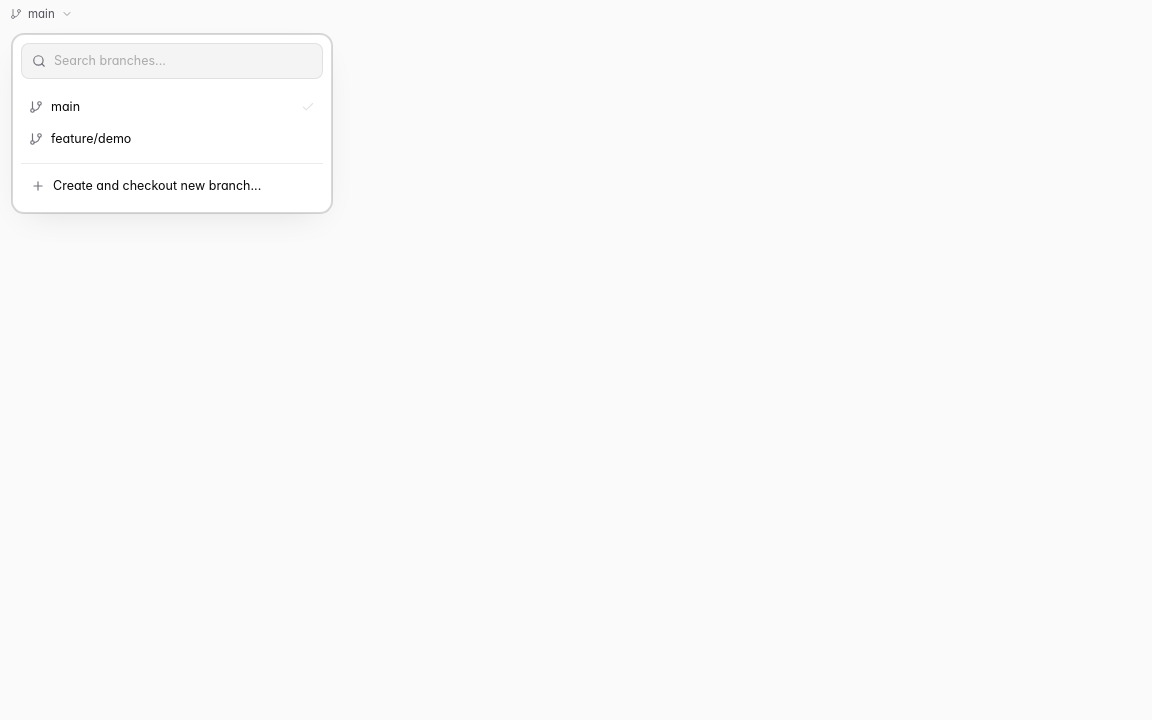
Test: BranchPicker panel (open) › blocks an invalid new branch name locally
Click the button "Create and checkout new branch..." at (172, 186), box x1=21 y1=168 x2=323 y2=204
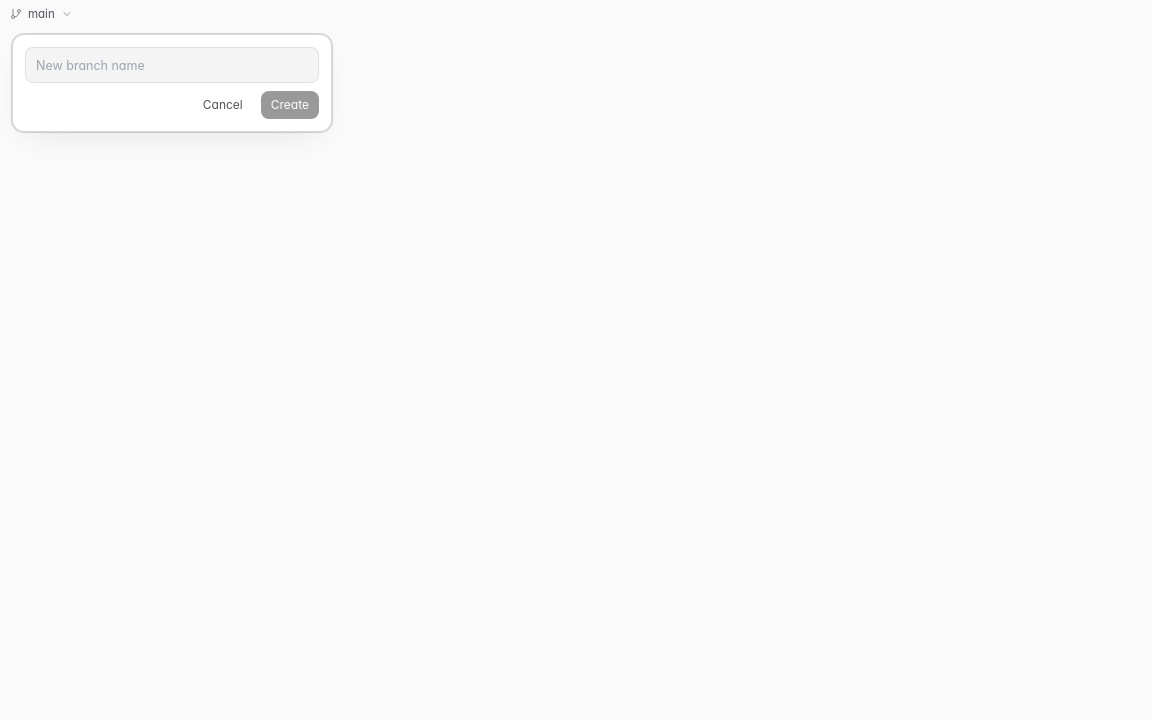
Type "-bad" into the field with placeholder "New branch name" at (172, 65), box x1=25 y1=47 x2=319 y2=83
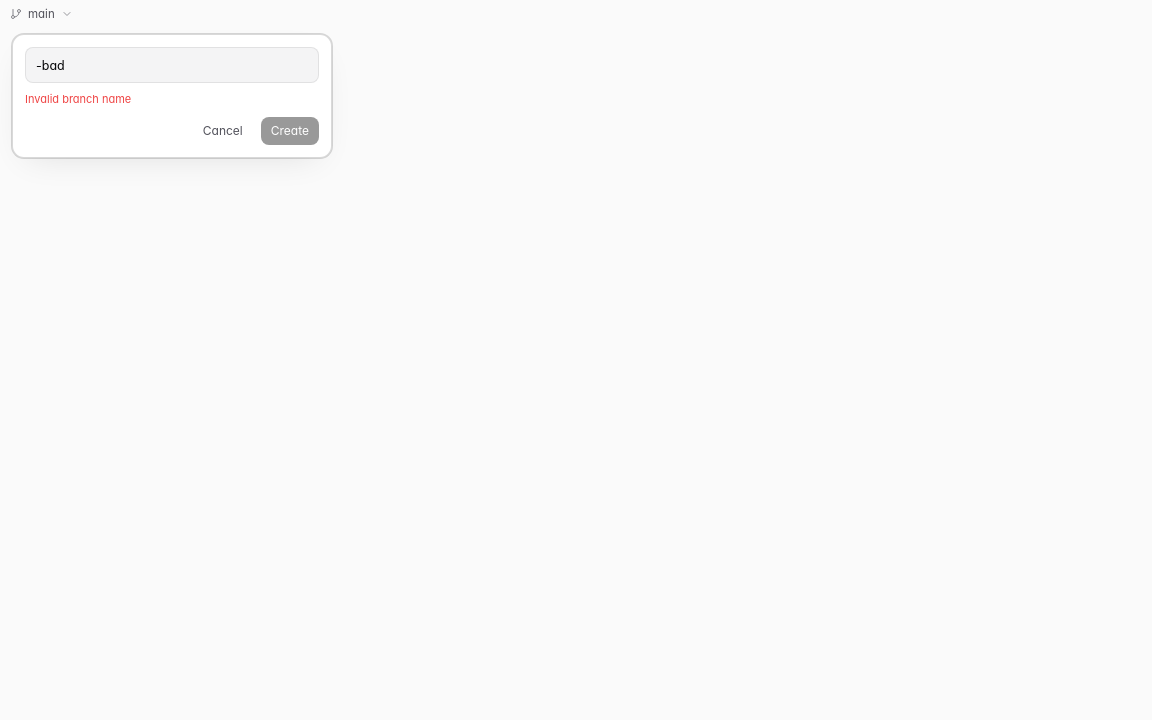
Expected: the button "Create" is disabled, x1=261 y1=117 x2=319 y2=145
Now the text "Invalid branch name" is shown, box x1=25 y1=92 x2=131 y2=106
